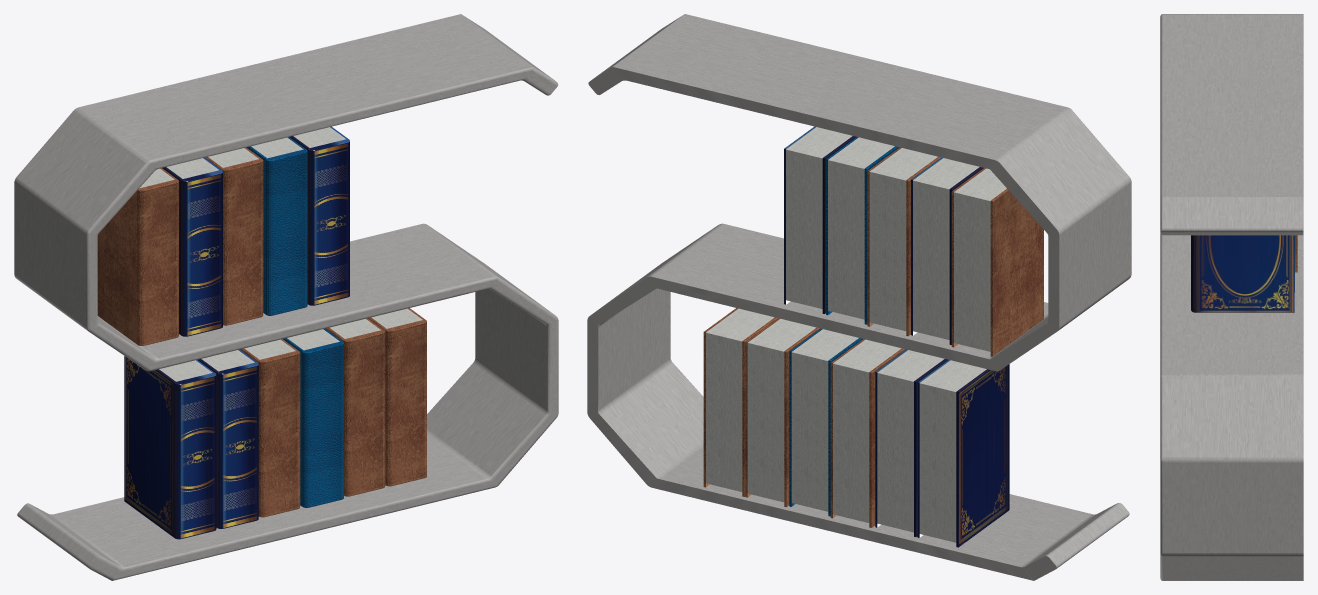
Rendered from Book Shelf (Beveled).fbx.
3 views of the same model, side by side, from view 1: azimuth 30°, elevation 25°; view 2: azimuth 150°, elevation 25°; view 3: azimuth 270°, elevation 25° (orthographic). The views are drawn at different scales.
Visible parts, largest first — view 1: Bookshelf, Book8, Book2, Book7, Book6, Book10, Book9, Book11, Book, Book4, Book3, Book5; view 2: Bookshelf, Book8, Book2, Book, Book4, Book5, Book3, Book9, Book6, Book7, Book11, Book10; view 3: Bookshelf, Book11.
Boxes of the visible parts, x1,y1,x2,y2 form: Bookshelf: (14, 14, 558, 580); Book8: (124, 356, 216, 539); Book2: (97, 168, 178, 345); Book7: (246, 137, 307, 315); Book6: (283, 328, 343, 507); Book10: (162, 157, 222, 336); Book9: (197, 349, 258, 528); Book11: (290, 126, 349, 305); Book: (240, 339, 300, 517); Book4: (325, 318, 385, 496); Book3: (368, 308, 426, 486); Book5: (205, 147, 263, 325); Bookshelf: (587, 14, 1131, 580); Book8: (917, 360, 1009, 547); Book2: (951, 168, 1043, 356); Book: (830, 339, 905, 527); Book4: (745, 318, 820, 506); Book5: (867, 147, 940, 336); Book3: (703, 308, 777, 496); Book9: (875, 349, 948, 536); Book6: (789, 328, 862, 516); Book7: (826, 137, 899, 324); Book11: (784, 126, 856, 313); Book10: (911, 157, 983, 344); Bookshelf: (1160, 14, 1303, 580); Book11: (1191, 235, 1294, 312).
Bounding box in the file's own units: 240 × 200 × 64.39.
5 materials, 5 textured.
